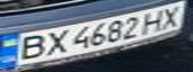2: (121, 14, 148, 39)
4: (69, 24, 93, 51)
6: (90, 20, 112, 47)
8: (106, 17, 127, 44)
B: (9, 33, 51, 62)
H: (136, 8, 172, 35)
X: (39, 28, 72, 56), (154, 3, 187, 30)
